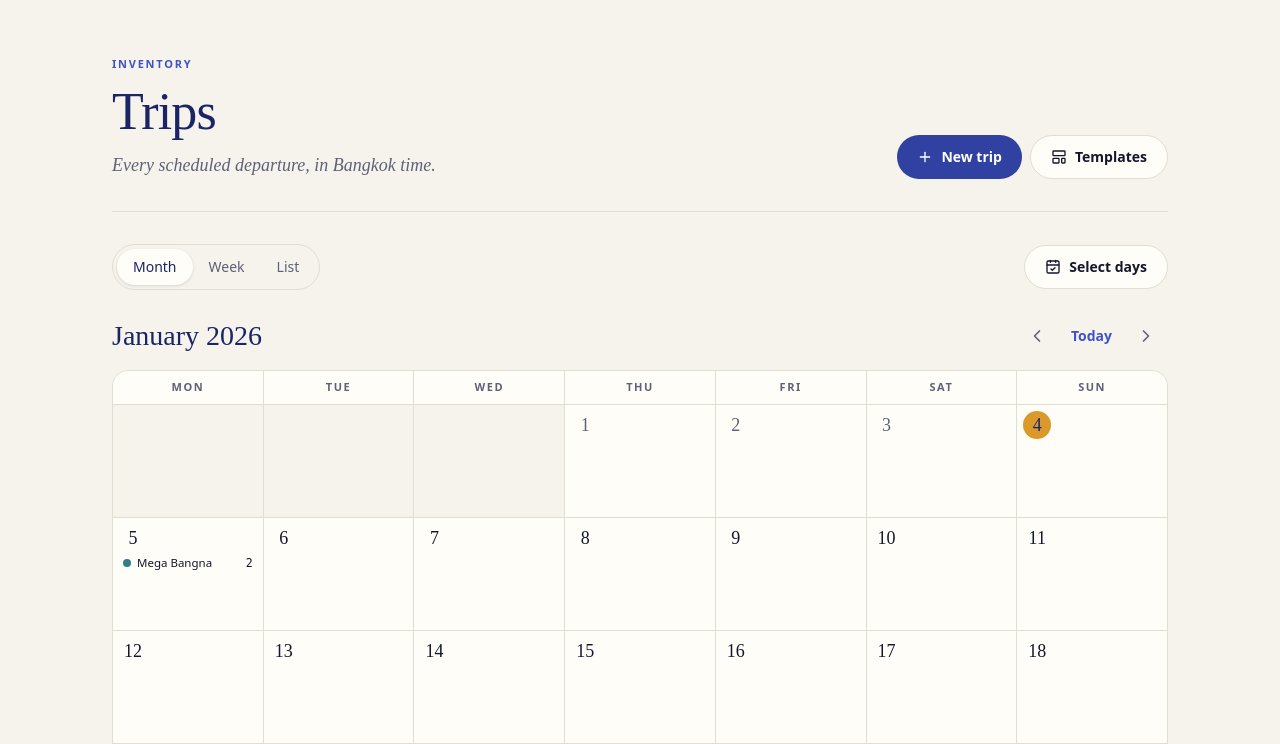
it: AdminTripsPage day templates › shows why a day could not be cleared
The width and height of the screenshot is (1280, 744).
Click the button with aria-label "Monday 5 January, 2 departures": (188, 574) [113,518,263,630]
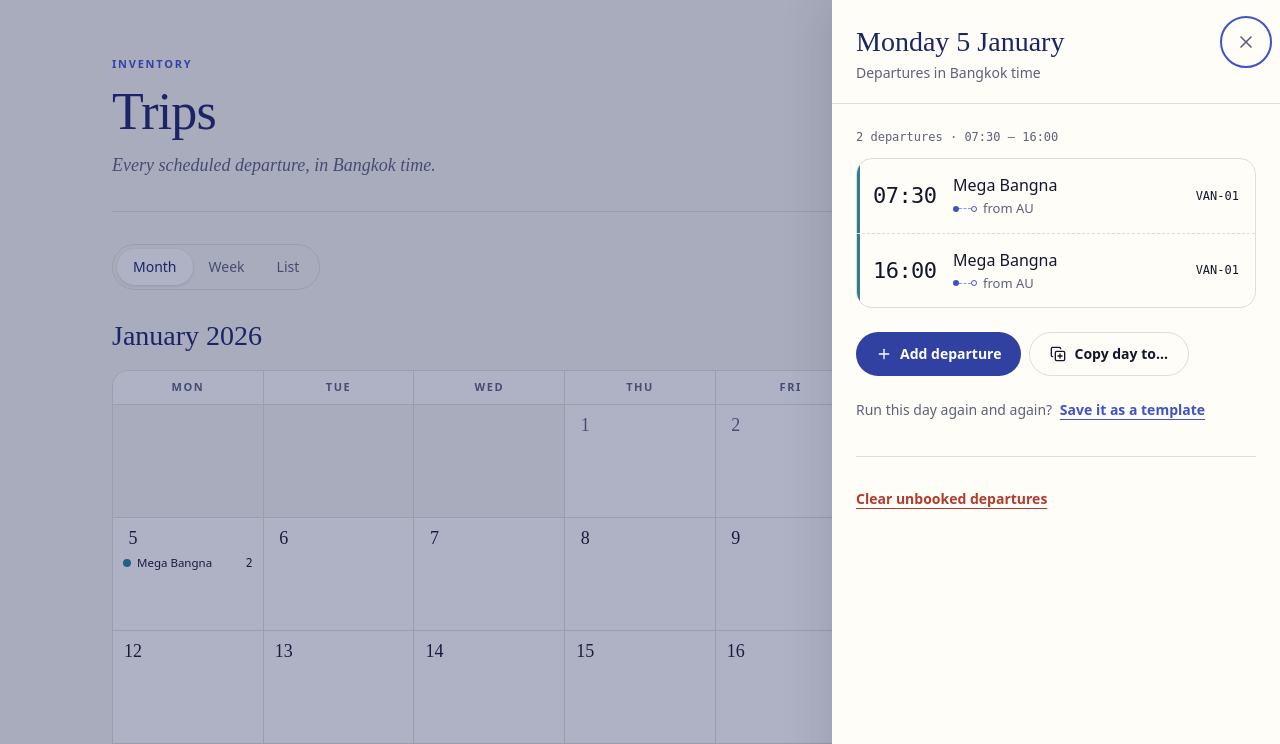
Click the button "Clear unbooked departures": (952, 499) [856,477,1047,521]
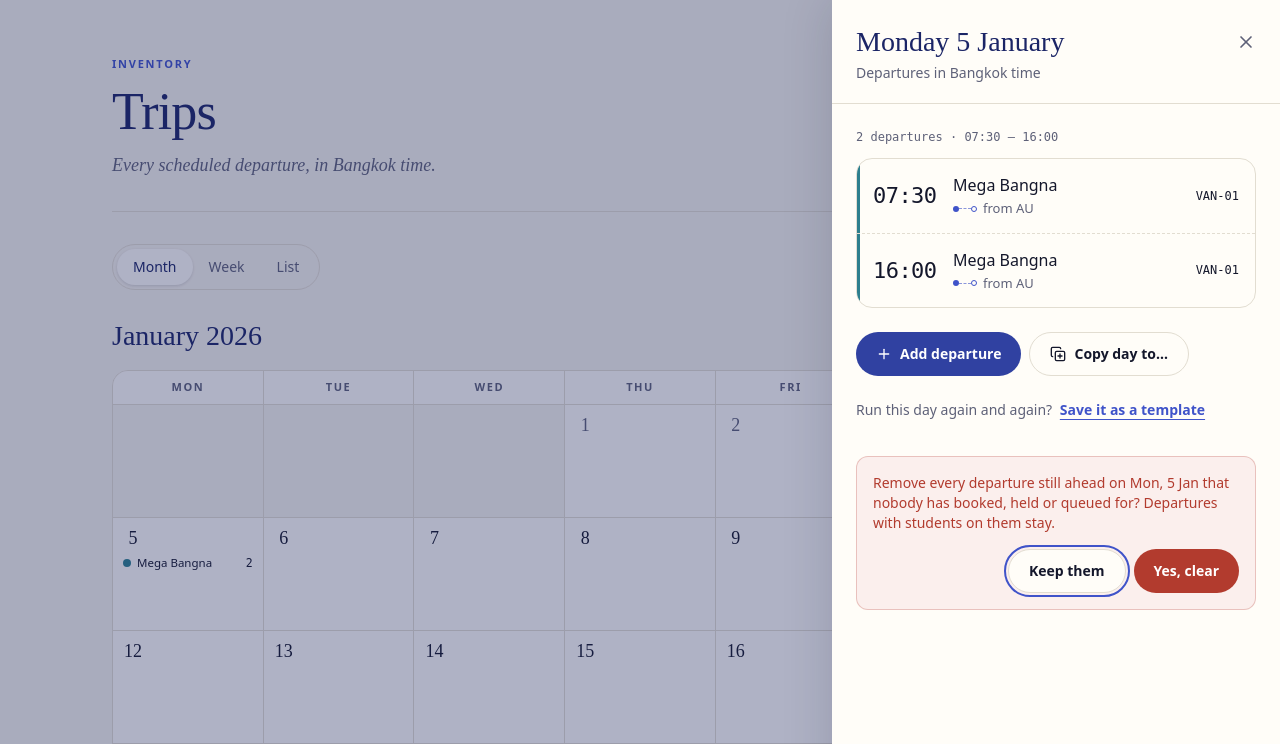
Click the button "Yes, clear": (1186, 571) [1134,549,1239,593]
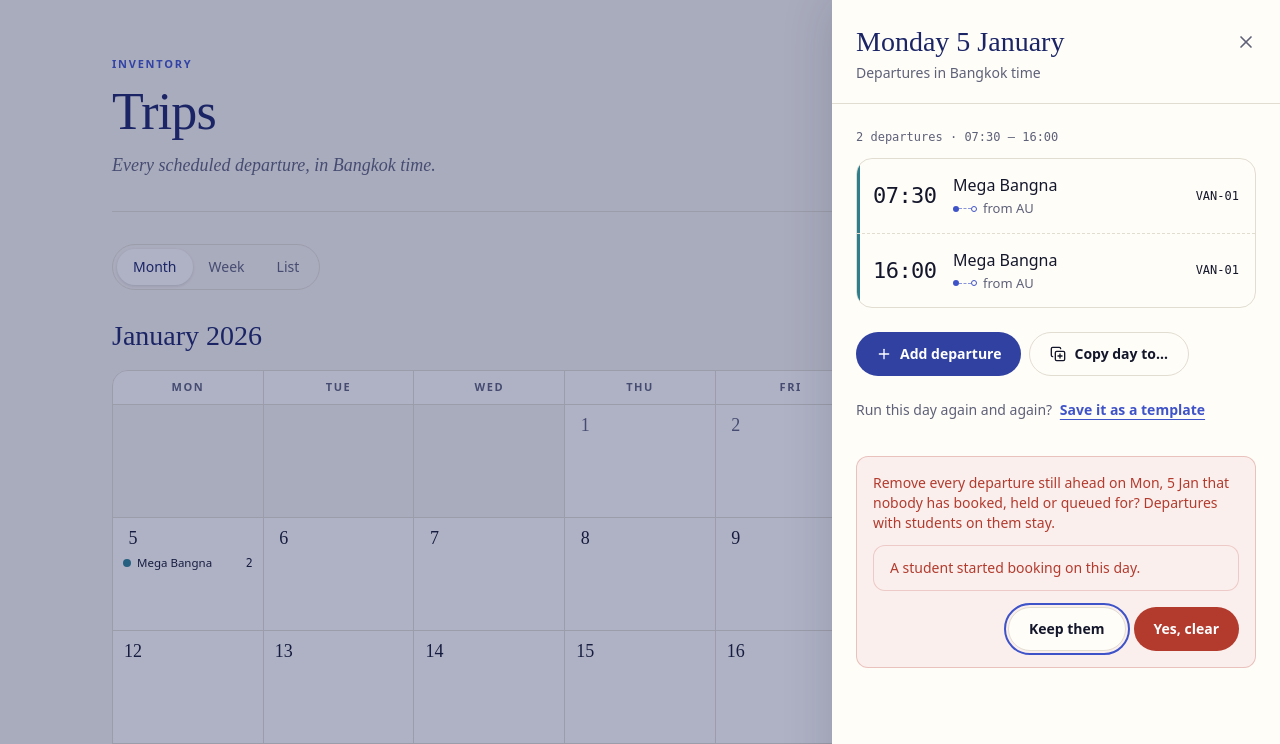
Expected: the text "A student started booking on this day." is shown, [873,545,1239,591]
